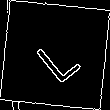L_NW: (28, 26, 82, 84)
